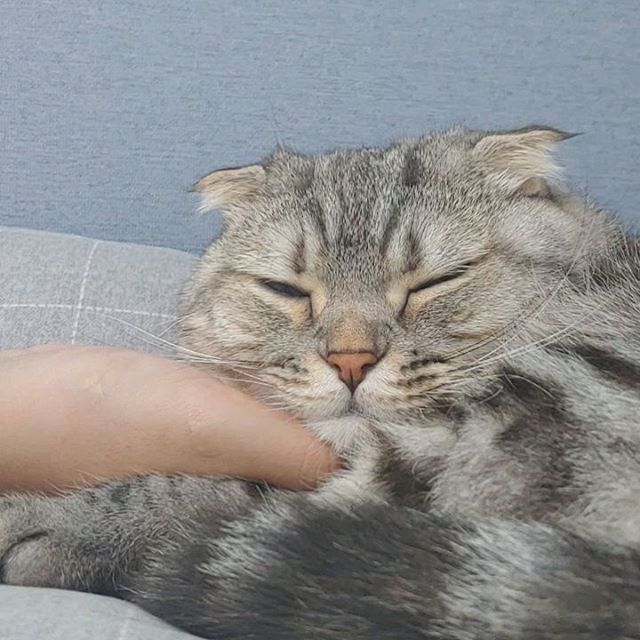cat: (194, 141, 527, 474)
